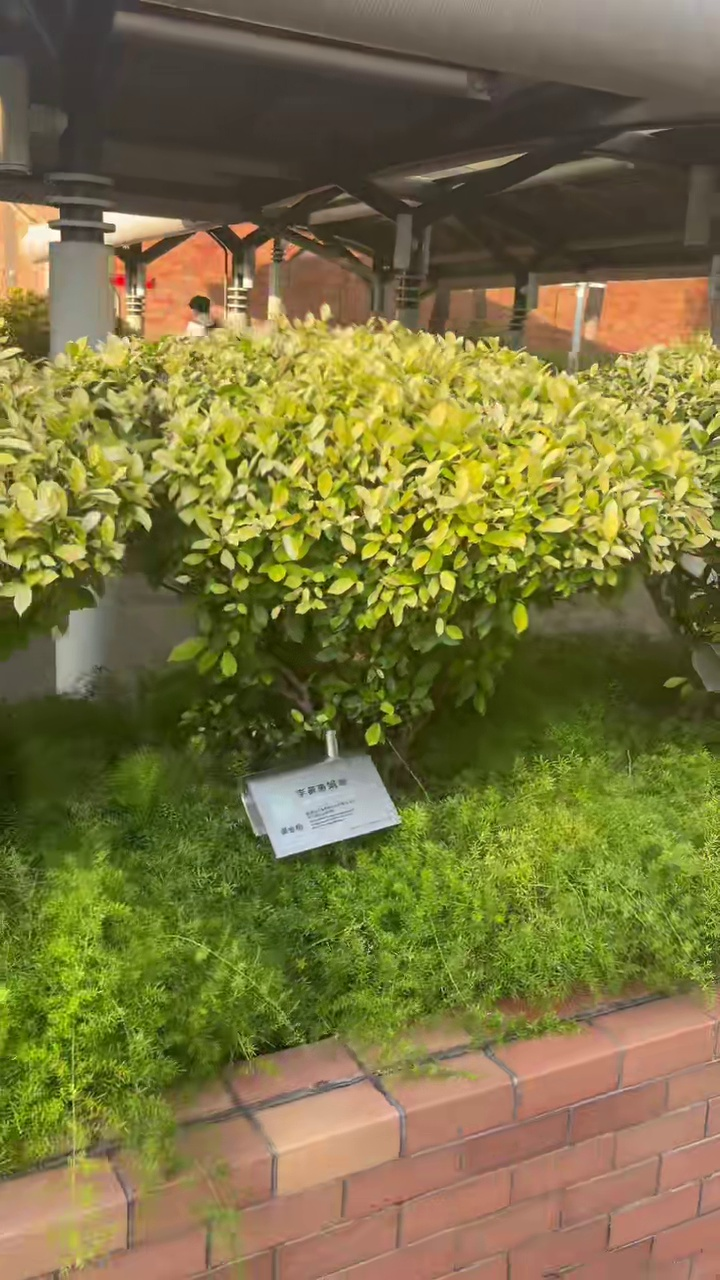Golden-leaves Fig: (154, 321, 711, 745)
